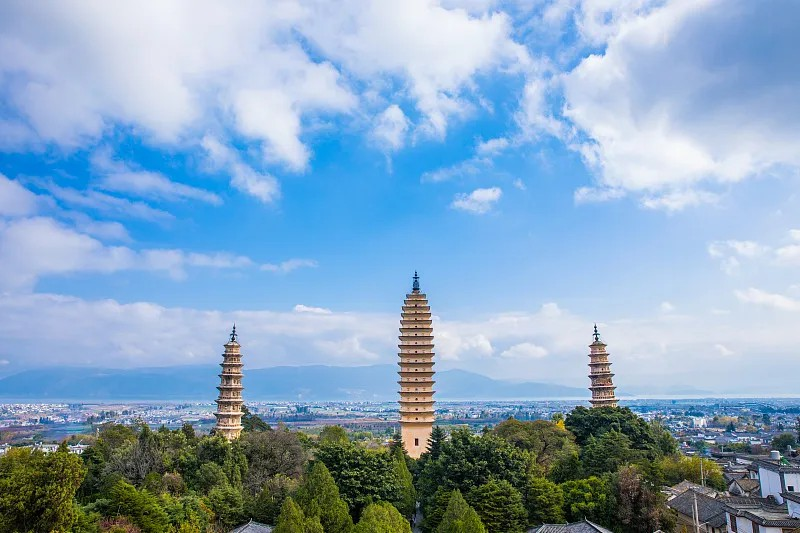ThreePagoda: (397, 272, 437, 458)
